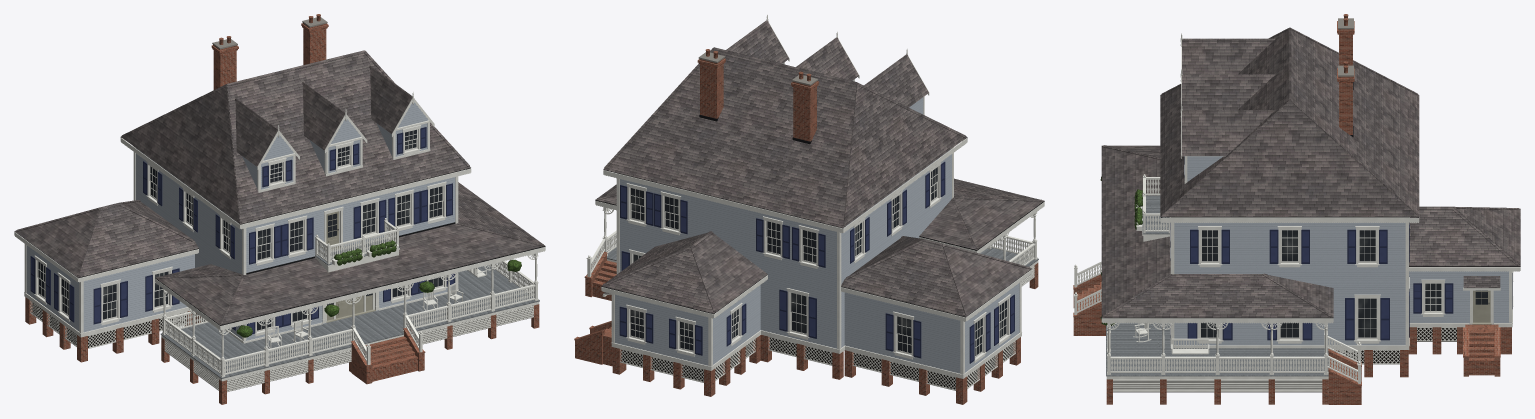
The model's file is monet-williams-house.glb.
3 renders of one model, left to right at view 1: azimuth 30°, elevation 25°; view 2: azimuth 150°, elevation 25°; view 3: azimuth 270°, elevation 25°, orthographic. The views are drawn at different scales.
Parts seen in each view (by area): view 1: Roof, House, Porch, Foundation, Chimneys, Porch_Plants; view 2: Roof, House, Foundation, Porch, Chimneys; view 3: Roof, House, Porch, Foundation, Chimneys.
Boxes of the visible parts, x1=… form: Roof: x1=14, y1=50, x2=545, y2=330; House: x1=24, y1=102, x2=458, y2=343; Porch: x1=160, y1=218, x2=539, y2=391; Foundation: x1=25, y1=297, x2=539, y2=404; Chimneys: x1=211, y1=14, x2=328, y2=89; Porch_Plants: x1=236, y1=240, x2=521, y2=337; Roof: x1=595, y1=14, x2=1044, y2=321; House: x1=611, y1=62, x2=1021, y2=378; Foundation: x1=612, y1=263, x2=1038, y2=404; Porch: x1=574, y1=207, x2=1038, y2=366; Chimneys: x1=697, y1=49, x2=819, y2=144; Roof: x1=1101, y1=27, x2=1520, y2=323; House: x1=1170, y1=156, x2=1513, y2=349; Porch: x1=1073, y1=174, x2=1500, y2=404; Foundation: x1=1106, y1=327, x2=1511, y2=404; Chimneys: x1=1337, y1=14, x2=1354, y2=137.
Size of the model in its own units: 22.63 by 14.32 by 20.74.
Materials: 14 (11 with a texture image).
